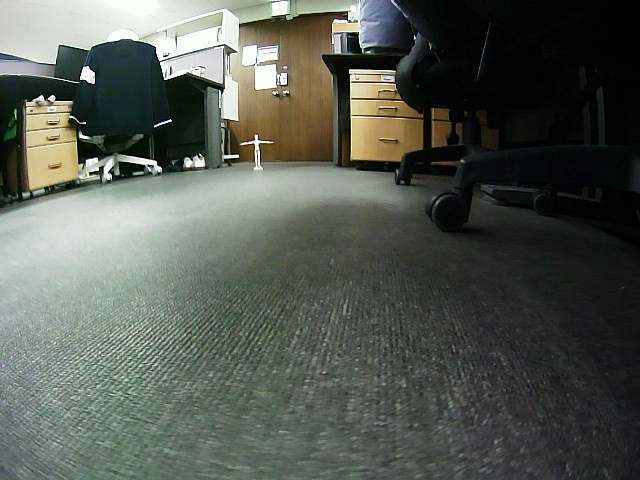person: (239, 133, 275, 167)
